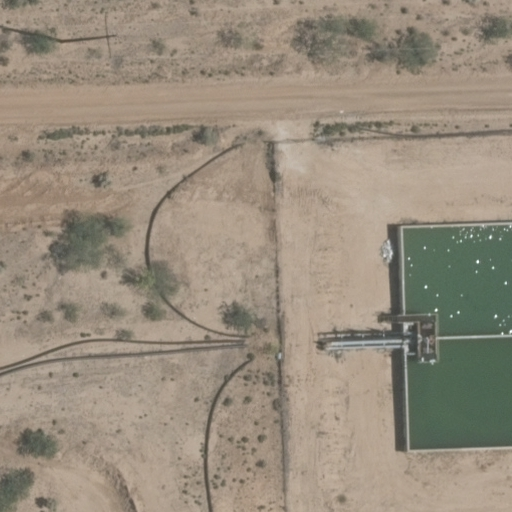DT: (61, 30, 123, 40)
